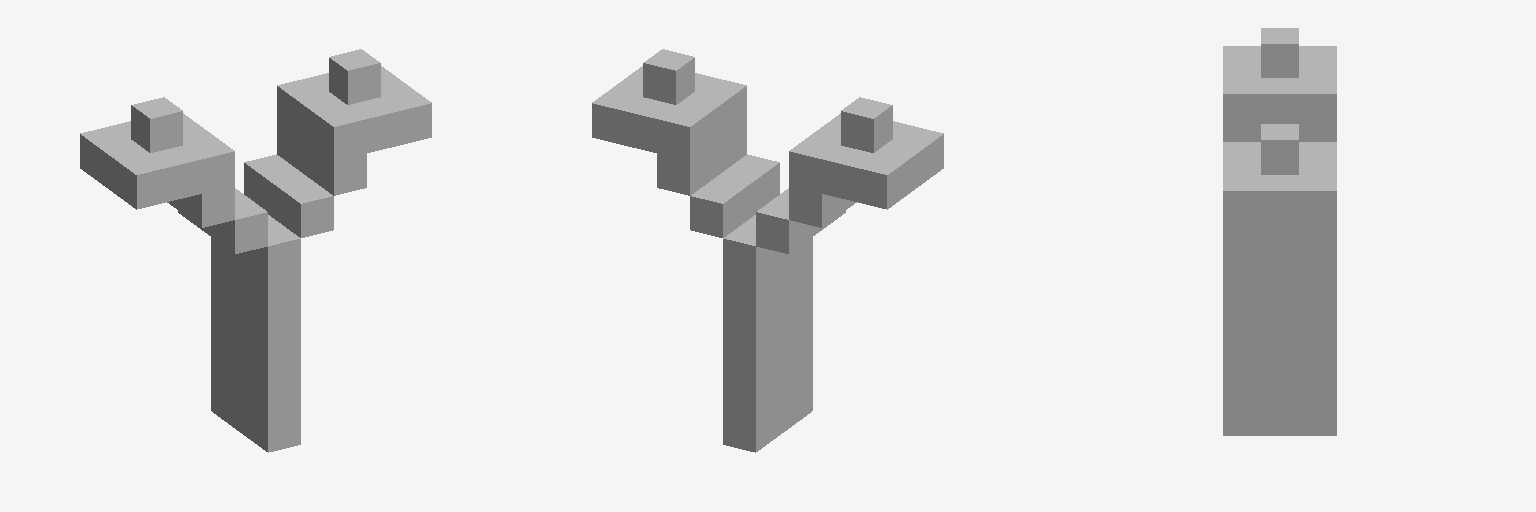
The model's file is Lamp 1.obj.
3 renders of one model, left to right at view 1: azimuth 30°, elevation 25°; view 2: azimuth 150°, elevation 25°; view 3: azimuth 270°, elevation 25°, orthographic.
Bounding box in the file's own units: 9 × 10 × 3.